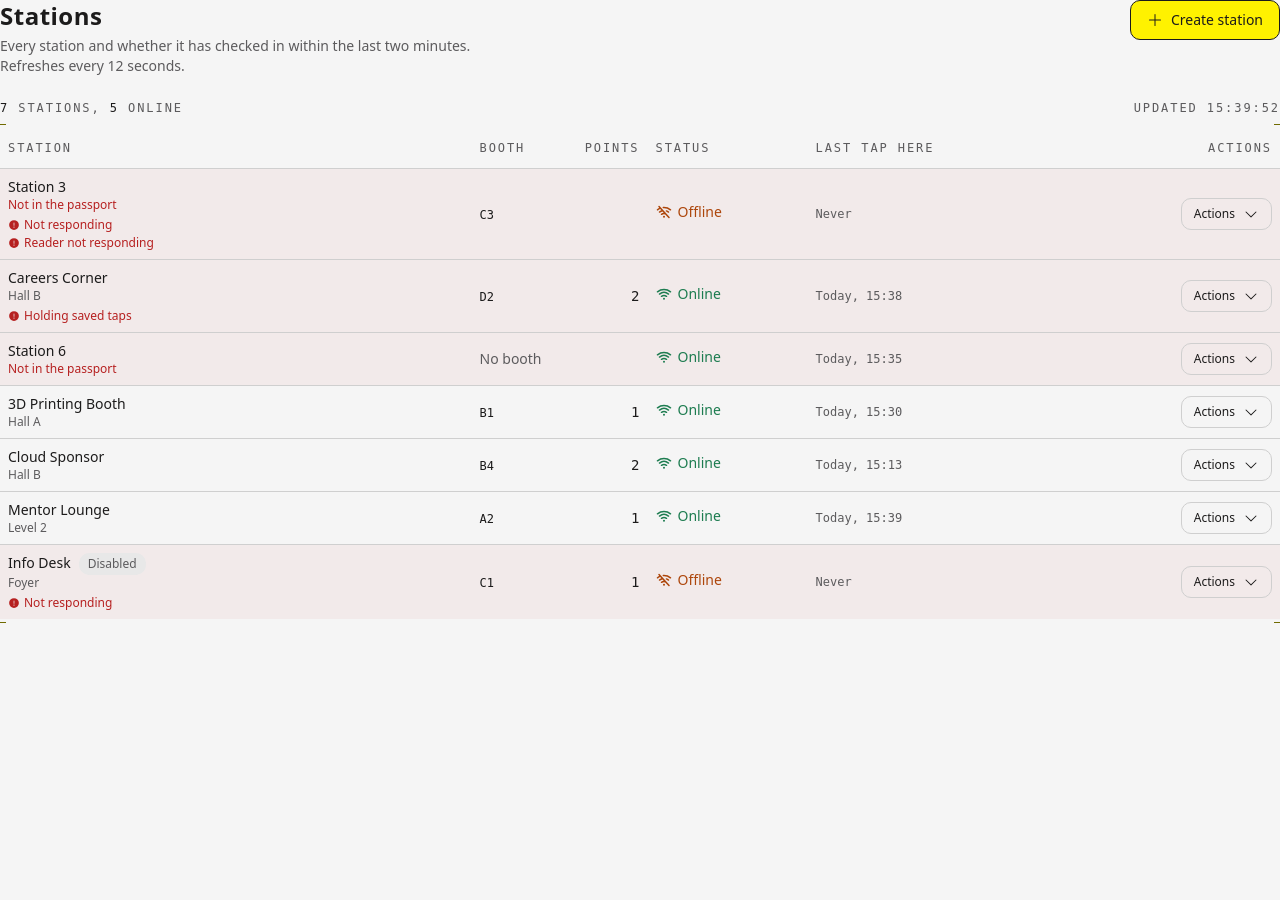
Test case: the booth on the station board (agreement 9.12) › fills the field with the station's booth
Click the button "Actions" in the row of "3D Printing Booth" at (1226, 412), box x1=1181 y1=396 x2=1272 y2=428
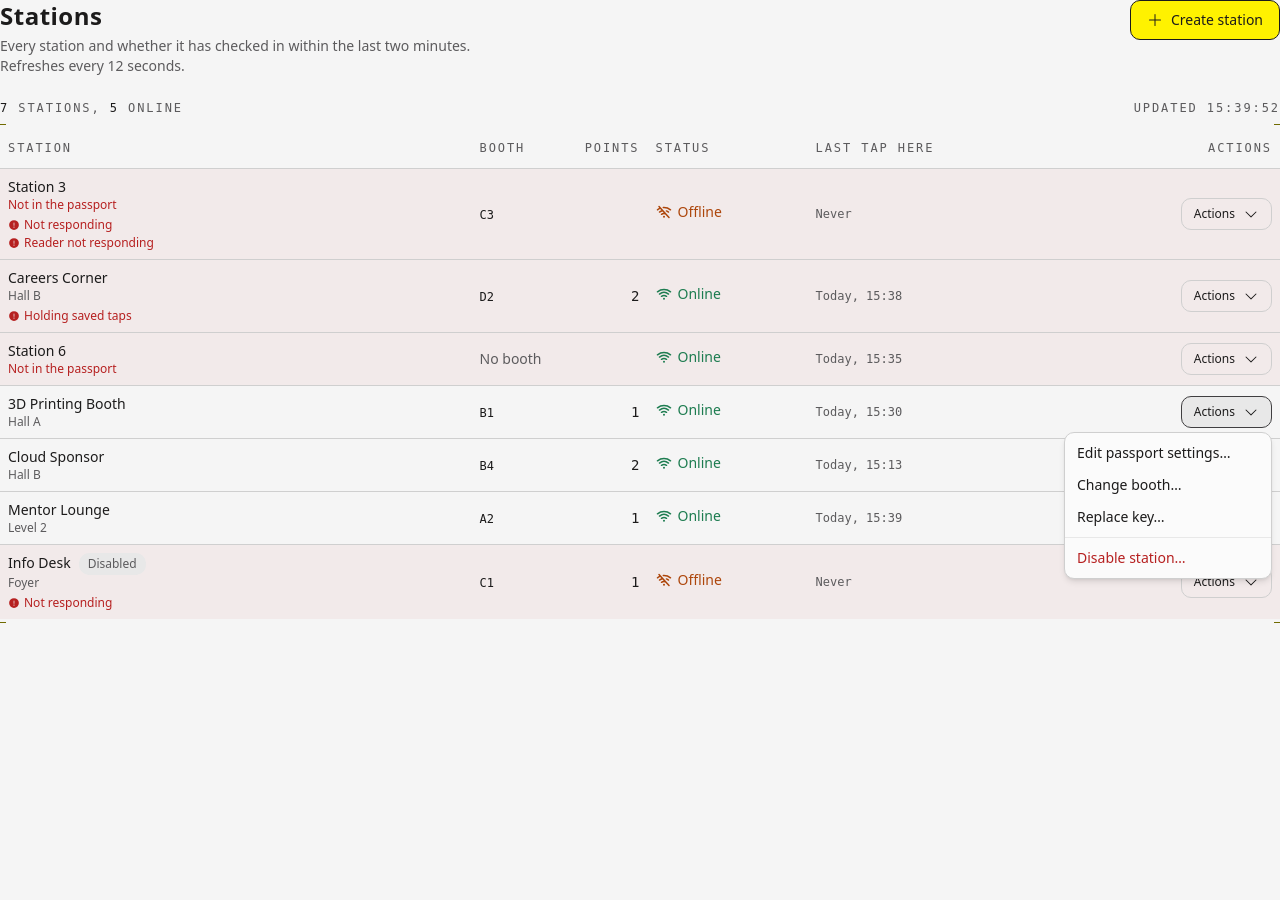
Now the menu is shown, box x1=1064 y1=432 x2=1272 y2=579
Click the menu item "Change booth…" at (1129, 484), box x1=1077 y1=475 x2=1182 y2=494
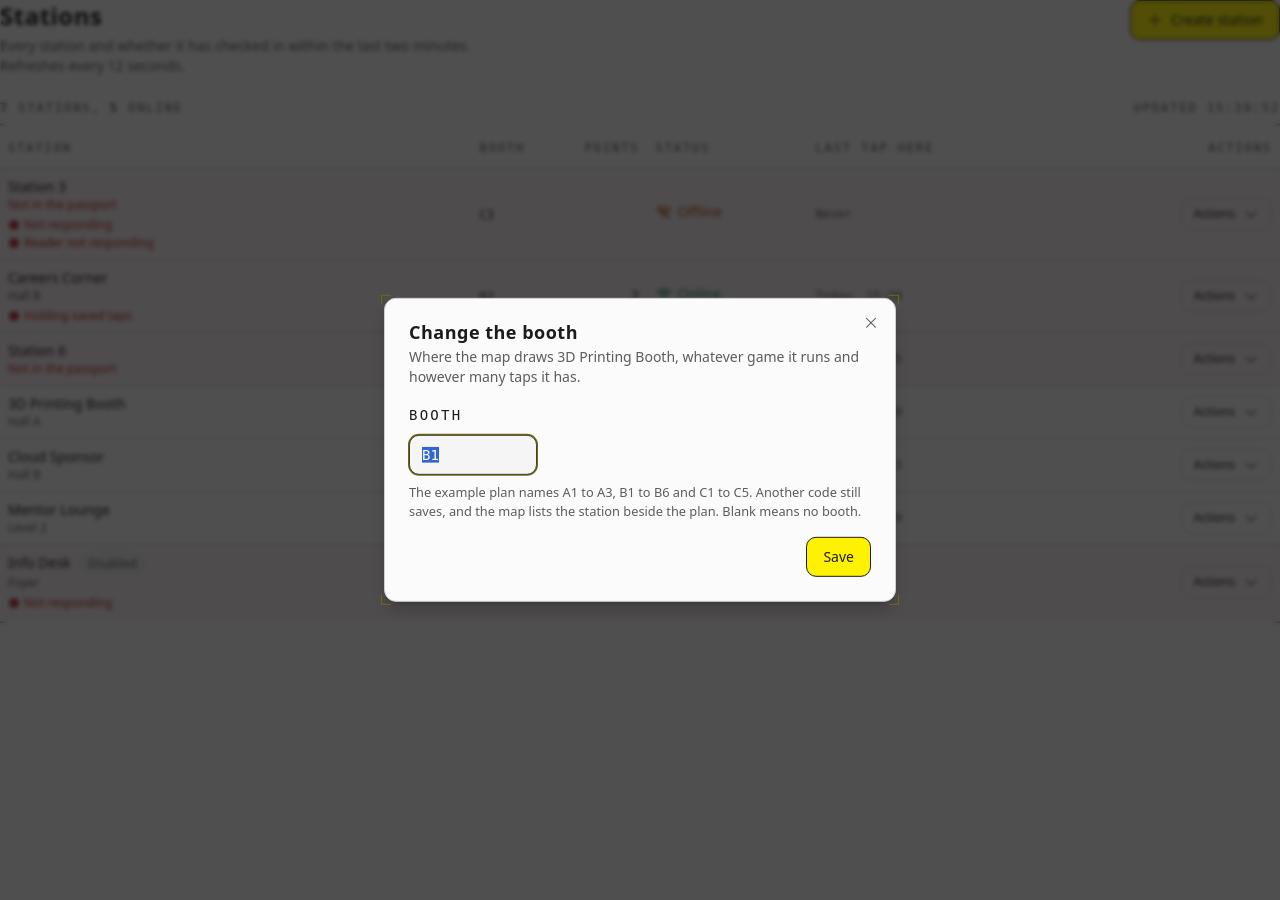
Now the field labelled "Booth" holds "B1", box x1=409 y1=435 x2=537 y2=475
